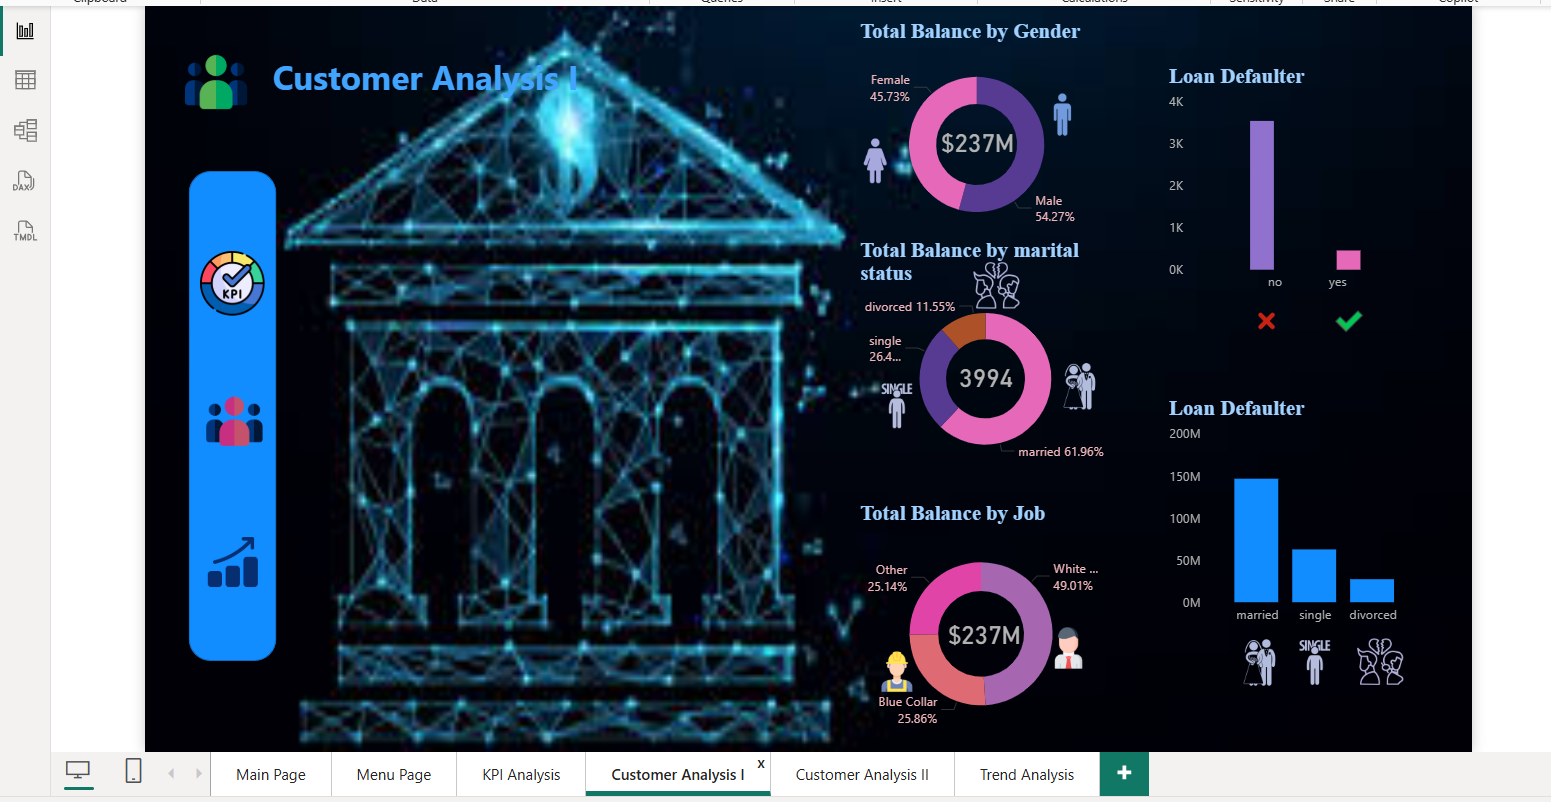

Layout of this report page (visuals, bound fields, positions):
{"tool":"powerbi","page":{"name":"Customer Analysis I","canvas":[1280,720],"ordinal":3},"visuals":[{"type":"donutChart","fields":{"Category":["Bank data.Gender"],"Y":["Measure.Total Balance"]},"box":[685.3,13.3,235.3,219.6],"z":0},{"type":"donutChart","title":"Total Balance by marital status","fields":{"Y":["Measure.Total Balance"],"Category":["Bank data.marital"]},"box":[685.3,224.4,252.1,228],"z":1000},{"type":"donutChart","title":"Total Balance by Job","fields":{"Y":["Measure.Total Balance"],"Category":["Bank data.Job Classification"]},"box":[685.3,479,243.7,232.8],"z":2000},{"type":"card","fields":{"Values":["Measure.Total Balance"]},"box":[746.8,88.1,113.4,88.1],"z":3000},{"type":"card","fields":{"Values":["Measure.Total Customers"]},"box":[770.9,322.1,82,73.6],"z":4000},{"type":"card","fields":{"Values":["Measure.Total Balance"]},"box":[767.3,569.4,85.7,73.6],"z":5000},{"type":"image","box":[860.2,77.2,50.7,55.5],"z":6000},{"type":"image","box":[676.8,123.1,56.7,53.1],"z":7000},{"type":"image","box":[696.1,359.5,59.1,53.1],"z":8000},{"type":"image","box":[874.7,339,54.3,56.7],"z":9000},{"type":"image","box":[791.4,242.5,61.5,54.3],"z":10000},{"type":"image","box":[862.6,594.8,57.9,49.5],"z":11000},{"type":"image","box":[696.1,617.7,59.1,49.5],"z":12000},{"type":"clusteredColumnChart","title":"Loan Defaulter","fields":{"Category":["Bank data.Loan Default"],"Y":["Measure.Total Customers"],"Series":["Bank data.Loan Default"]},"box":[983.2,56.7,252.1,228],"z":13000},{"type":"clusteredColumnChart","title":"Loan Defaulter","fields":{"Category":["Bank data.marital"],"Y":["Measure.Total Balance"]},"box":[983.2,377.6,252.1,228],"z":14000},{"type":"image","box":[1141.3,285.9,41,37.4],"z":15000},{"type":"image","box":[1062.9,285.9,39.8,36.2],"z":16000},{"type":"image","box":[1048.4,605.6,54.3,56.7],"z":17000},{"type":"image","box":[1102.7,605.6,53.1,56.7],"z":18000},{"type":"image","box":[1161.8,605.6,61.5,54.3],"z":19000},{"type":"textbox","box":[118.2,42.2,329.4,62.7],"z":20000},{"type":"shape","box":[42.2,159.3,84.5,472.9],"z":21000},{"type":"image","box":[54.3,368,63.9,65.1],"z":22000},{"type":"image","box":[48.3,231.6,72.4,72.4],"z":23000},{"type":"image","box":[50.7,504.3,67.6,65.1],"z":24000},{"type":"image","box":[33.8,38.6,70,70],"z":25000}]}

Visuals, with their boxes on the page's 1280x720 design canvas (x1, y1, x2, y2). These are canvas units, not pixel positions in the 1551x802 screenshot, which may show the page scaled, cropped or inside an application window:
donutChart - Bank data.Gender x Measure.Total Balance: x1=685, y1=13, x2=921, y2=233
"Total Balance by marital status" donutChart: x1=685, y1=224, x2=937, y2=452
"Total Balance by Job" donutChart: x1=685, y1=479, x2=929, y2=712
card - Measure.Total Balance: x1=747, y1=88, x2=860, y2=176
card - Measure.Total Customers: x1=771, y1=322, x2=853, y2=396
card - Measure.Total Balance: x1=767, y1=569, x2=853, y2=643
image: x1=860, y1=77, x2=911, y2=133
image: x1=677, y1=123, x2=734, y2=176
image: x1=696, y1=360, x2=755, y2=413
image: x1=875, y1=339, x2=929, y2=396
image: x1=791, y1=242, x2=853, y2=297
image: x1=863, y1=595, x2=920, y2=644
image: x1=696, y1=618, x2=755, y2=667
"Loan Defaulter" clusteredColumnChart: x1=983, y1=57, x2=1235, y2=285
"Loan Defaulter" clusteredColumnChart: x1=983, y1=378, x2=1235, y2=606
image: x1=1141, y1=286, x2=1182, y2=323
image: x1=1063, y1=286, x2=1103, y2=322
image: x1=1048, y1=606, x2=1103, y2=662
image: x1=1103, y1=606, x2=1156, y2=662
image: x1=1162, y1=606, x2=1223, y2=660
textbox: x1=118, y1=42, x2=448, y2=105
shape: x1=42, y1=159, x2=127, y2=632
image: x1=54, y1=368, x2=118, y2=433
image: x1=48, y1=232, x2=121, y2=304
image: x1=51, y1=504, x2=118, y2=569
image: x1=34, y1=39, x2=104, y2=109
